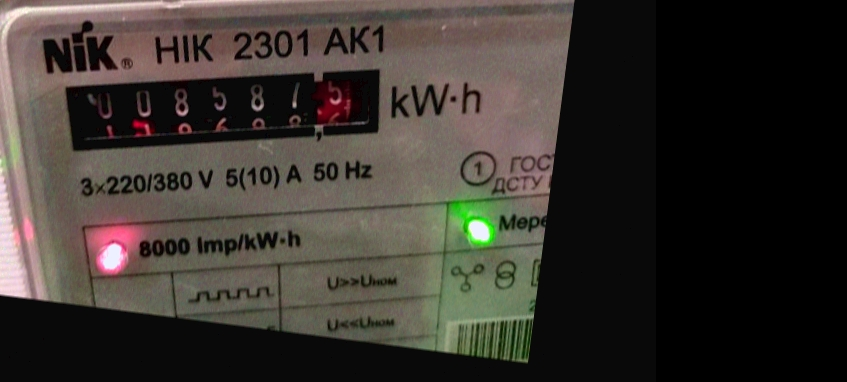0: (127, 83, 157, 120), (89, 86, 119, 121)
5: (205, 80, 231, 114), (320, 73, 346, 106)
6: (323, 108, 343, 127)
7: (280, 77, 306, 113)
8: (167, 84, 195, 119), (242, 79, 269, 114)
screen: (47, 28, 407, 193)
